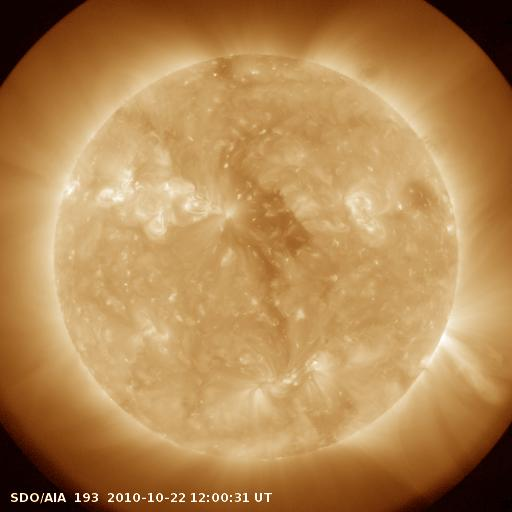coronal_hole: (225, 165, 318, 290)
